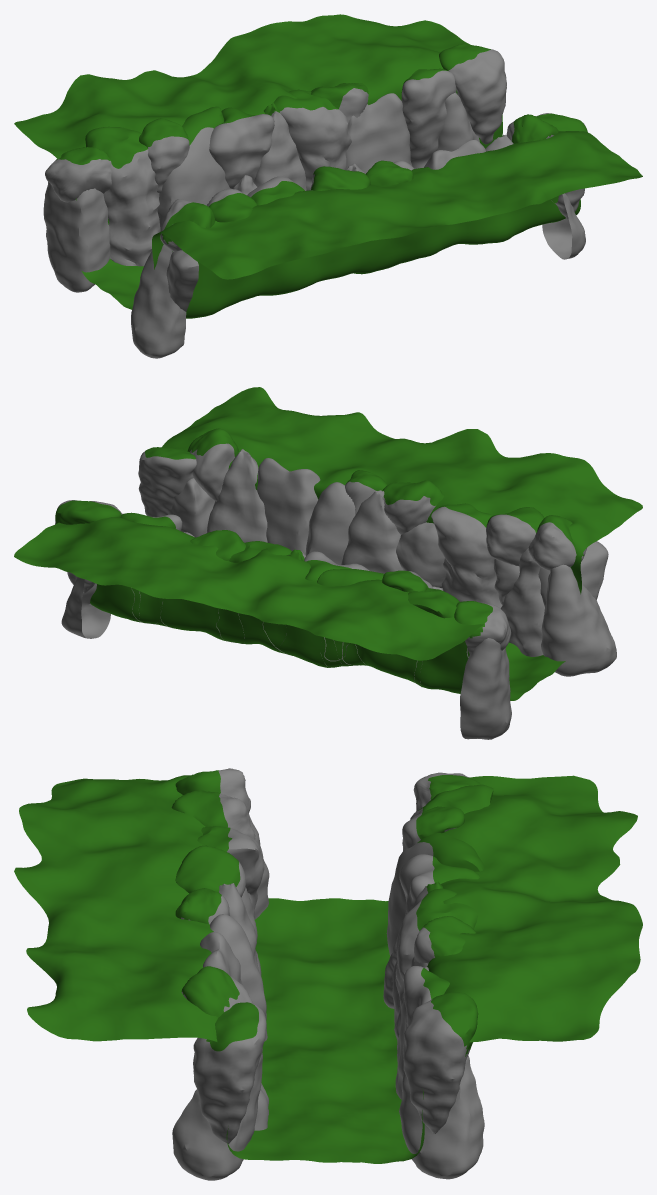
File: cliffs.fbx
3 renders of one model, top to bottom at view 1: azimuth 30°, elevation 25°; view 2: azimuth 150°, elevation 25°; view 3: azimuth 270°, elevation 25°, orthographic. The views are drawn at different scales.
Visible parts, largest first — view 1: Canyon, Canyon_Rocks; view 2: Canyon, Canyon_Rocks; view 3: Canyon, Canyon_Rocks.
Part boxes in pixels (<box>): Canyon: <box>14,14,642,318</box>; Canyon_Rocks: <box>43,44,587,358</box>; Canyon: <box>14,387,642,700</box>; Canyon_Rocks: <box>55,428,616,739</box>; Canyon: <box>14,775,642,1163</box>; Canyon_Rocks: <box>171,768,493,1180</box>.
Size of the model in its own units: 13575 by 4251 by 12735.
